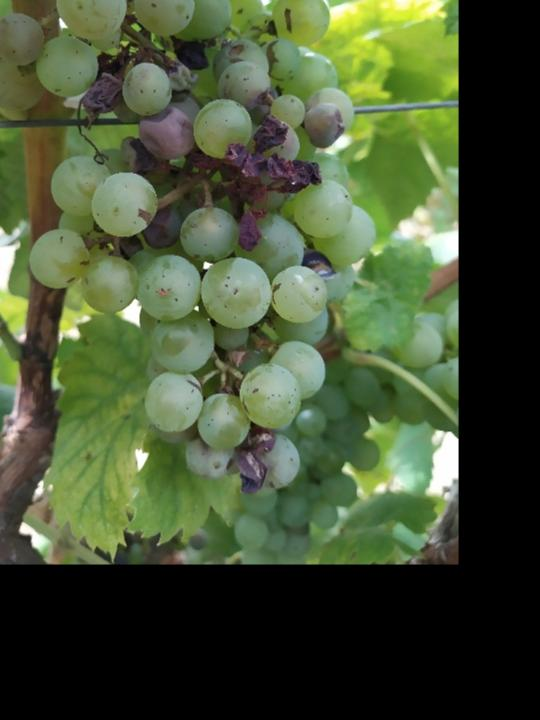grape: (0, 0, 379, 498)
